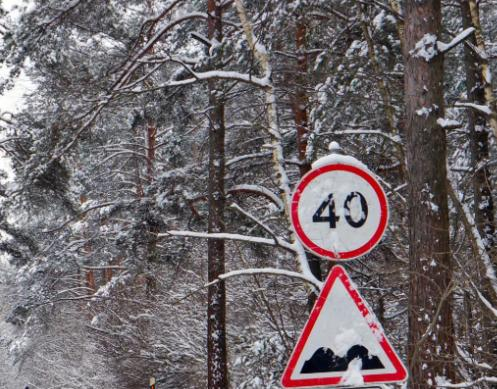obstructed_road_sign: (282, 266, 407, 388), (291, 154, 387, 260)
